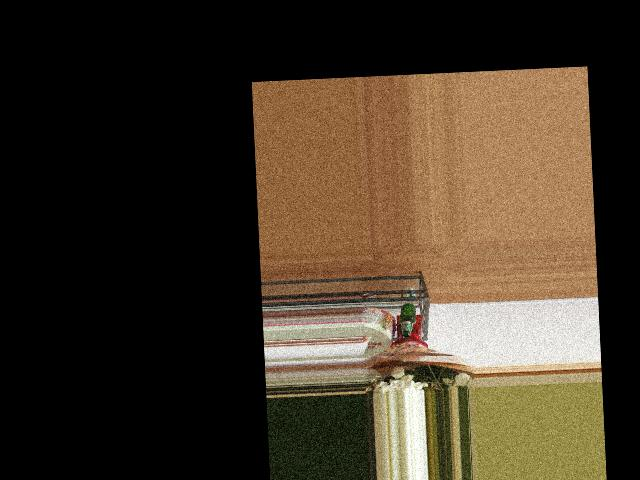beer: (397, 302, 416, 337)
